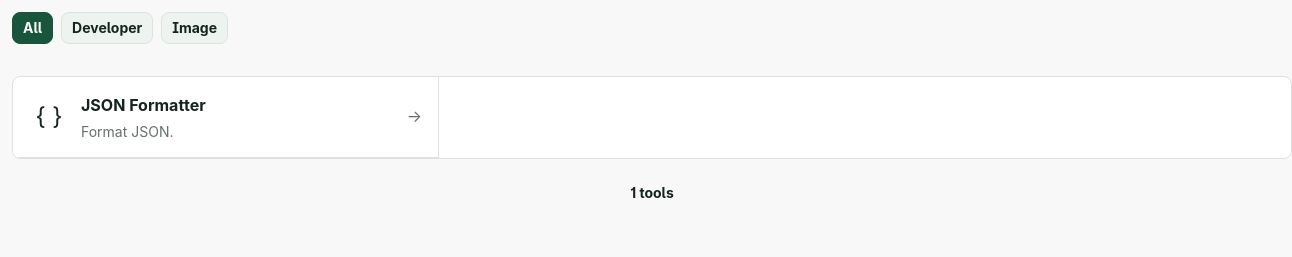
Test: ToolsGrid › exposes category chips as pressed-state buttons and announces the filtered count
This screenshot has width=1292, height=257.
Click the button "Image" at point(195, 28), box 161,12 -> 228,44
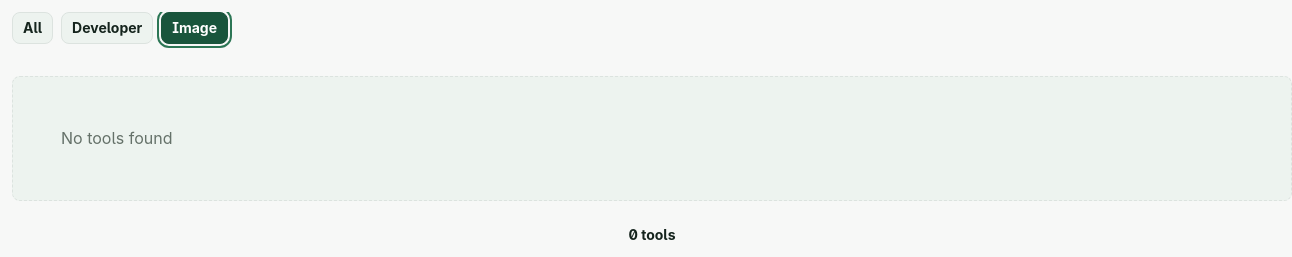
Expected: the link "JSON Formatter" is gone
